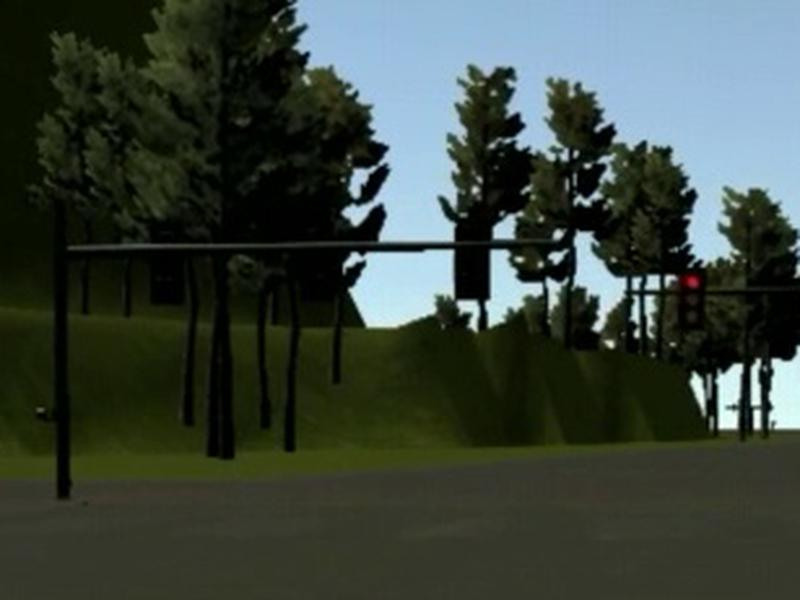Red: (678, 269, 706, 330)
